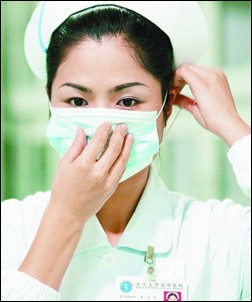face_mask: (49, 37, 157, 200)
